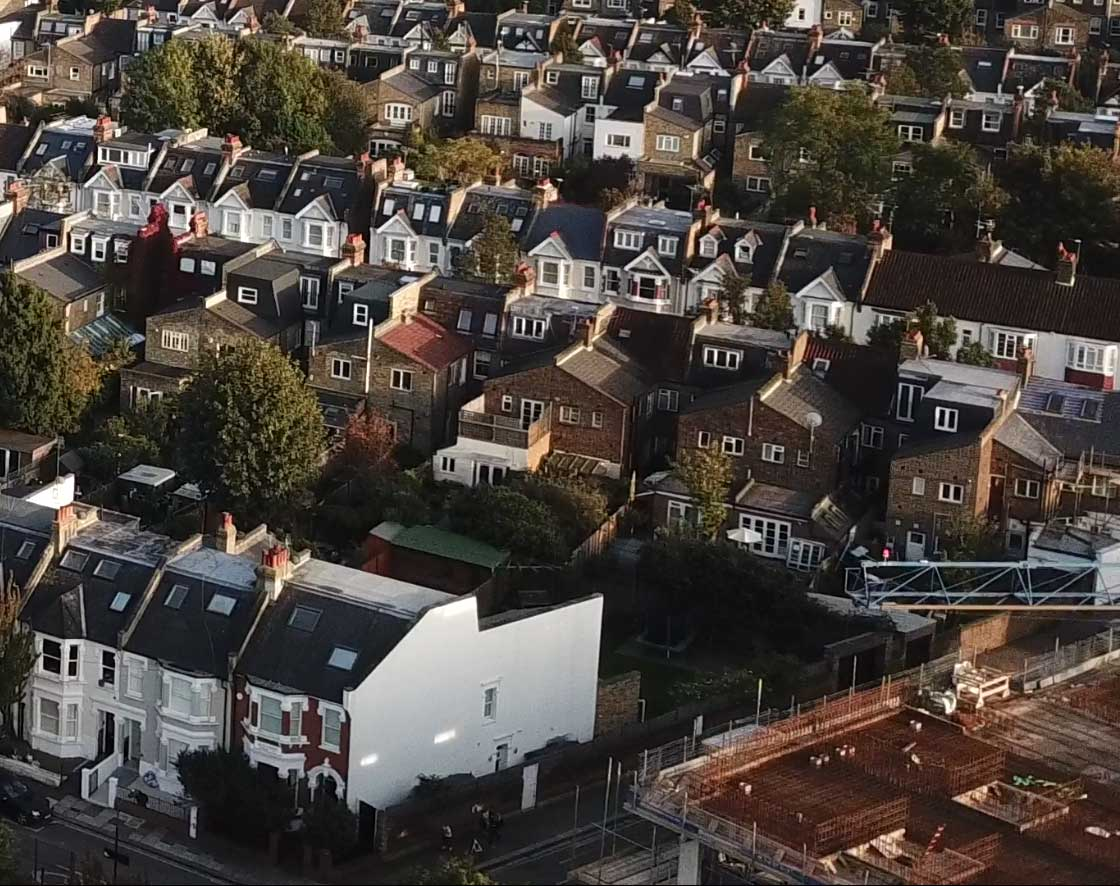building: (11, 486, 609, 823)
tree: (161, 324, 338, 531)
